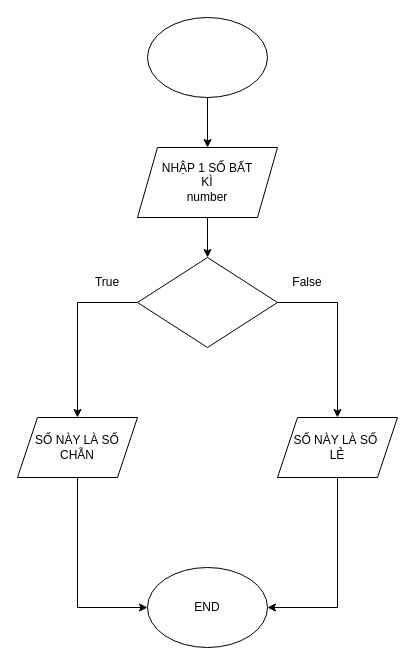
The diagram is 415 pixels wide and 665 high, and some of its shapes have lost their labels. The centre of each missing label's shape, as x and y in pixels:
number mod 2 = 0: (x=207, y=302)
START: (x=207, y=57)
